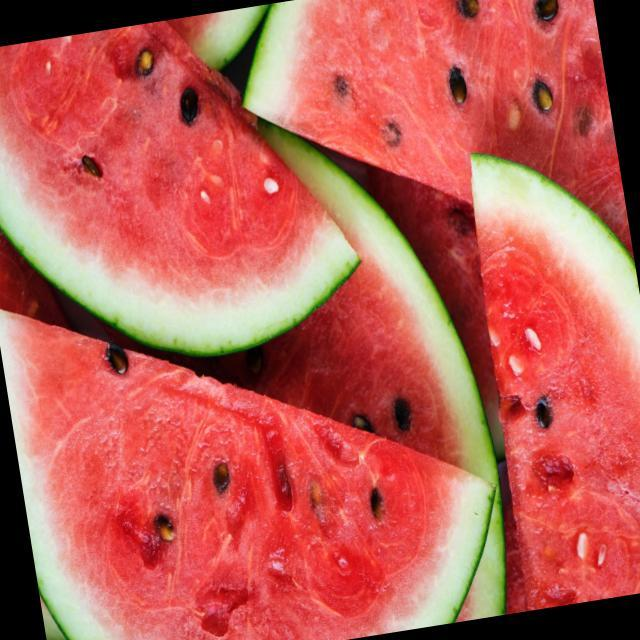WATERMELON: (0, 238, 517, 640), (0, 0, 388, 392), (0, 0, 371, 382), (230, 0, 634, 318), (458, 132, 640, 610)
